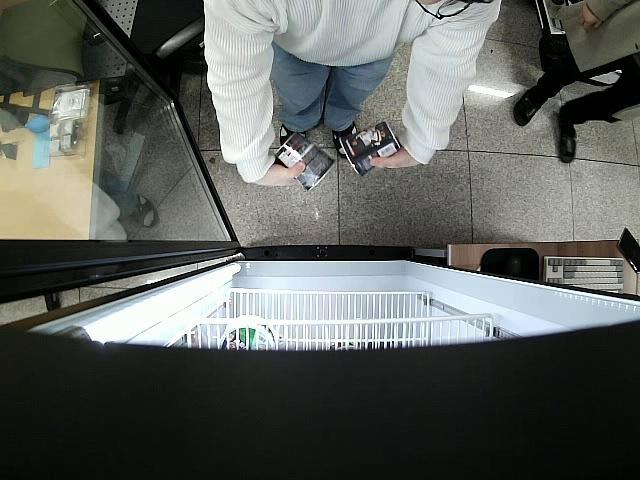08_buldak_S: (274, 132, 337, 192), (340, 119, 402, 176)
